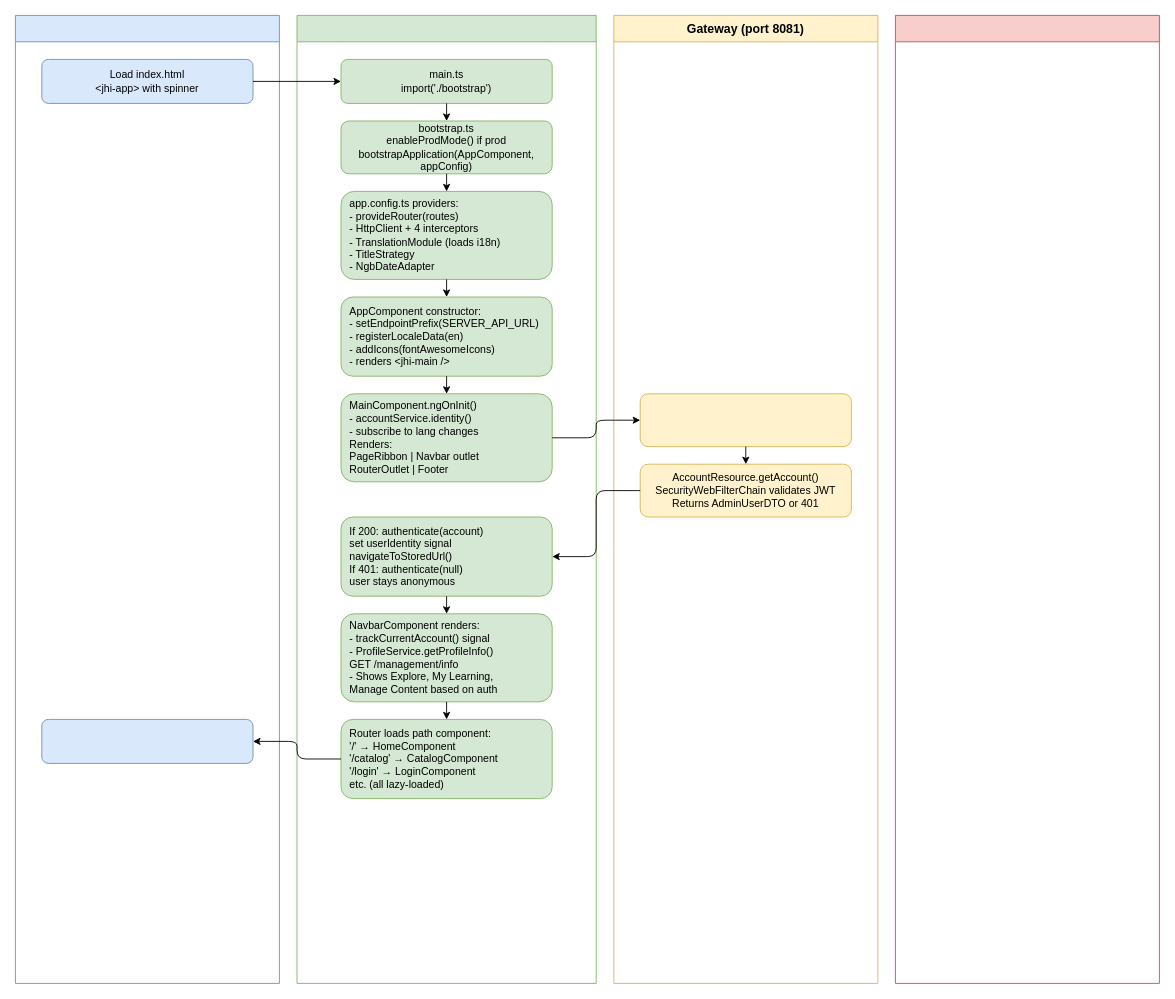
Image size: 1175x999. Some labels were removed from this diagram. The shapes that lost their labels are listed below. From the top down, each one's box as (x1, y1, x2, y2) in pixels, then its label:
(639, 393, 851, 447): AccountService.identity() GET /api/account + AuthInterceptor adds JWT
(15, 15, 279, 983): Browser
(296, 15, 596, 983): Angular Framework
(895, 15, 1159, 983): Service (port 8080)
(41, 719, 253, 763): Spinner replaced Full app rendered
